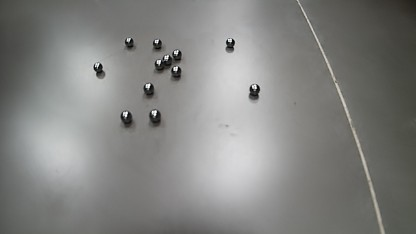ironball: (120, 110, 132, 124), (149, 109, 161, 122), (143, 82, 154, 94), (249, 83, 260, 95), (171, 65, 181, 77), (172, 49, 182, 60), (154, 59, 164, 70), (152, 38, 162, 49), (162, 54, 172, 65), (93, 62, 103, 72), (124, 37, 134, 47), (226, 38, 235, 47)
